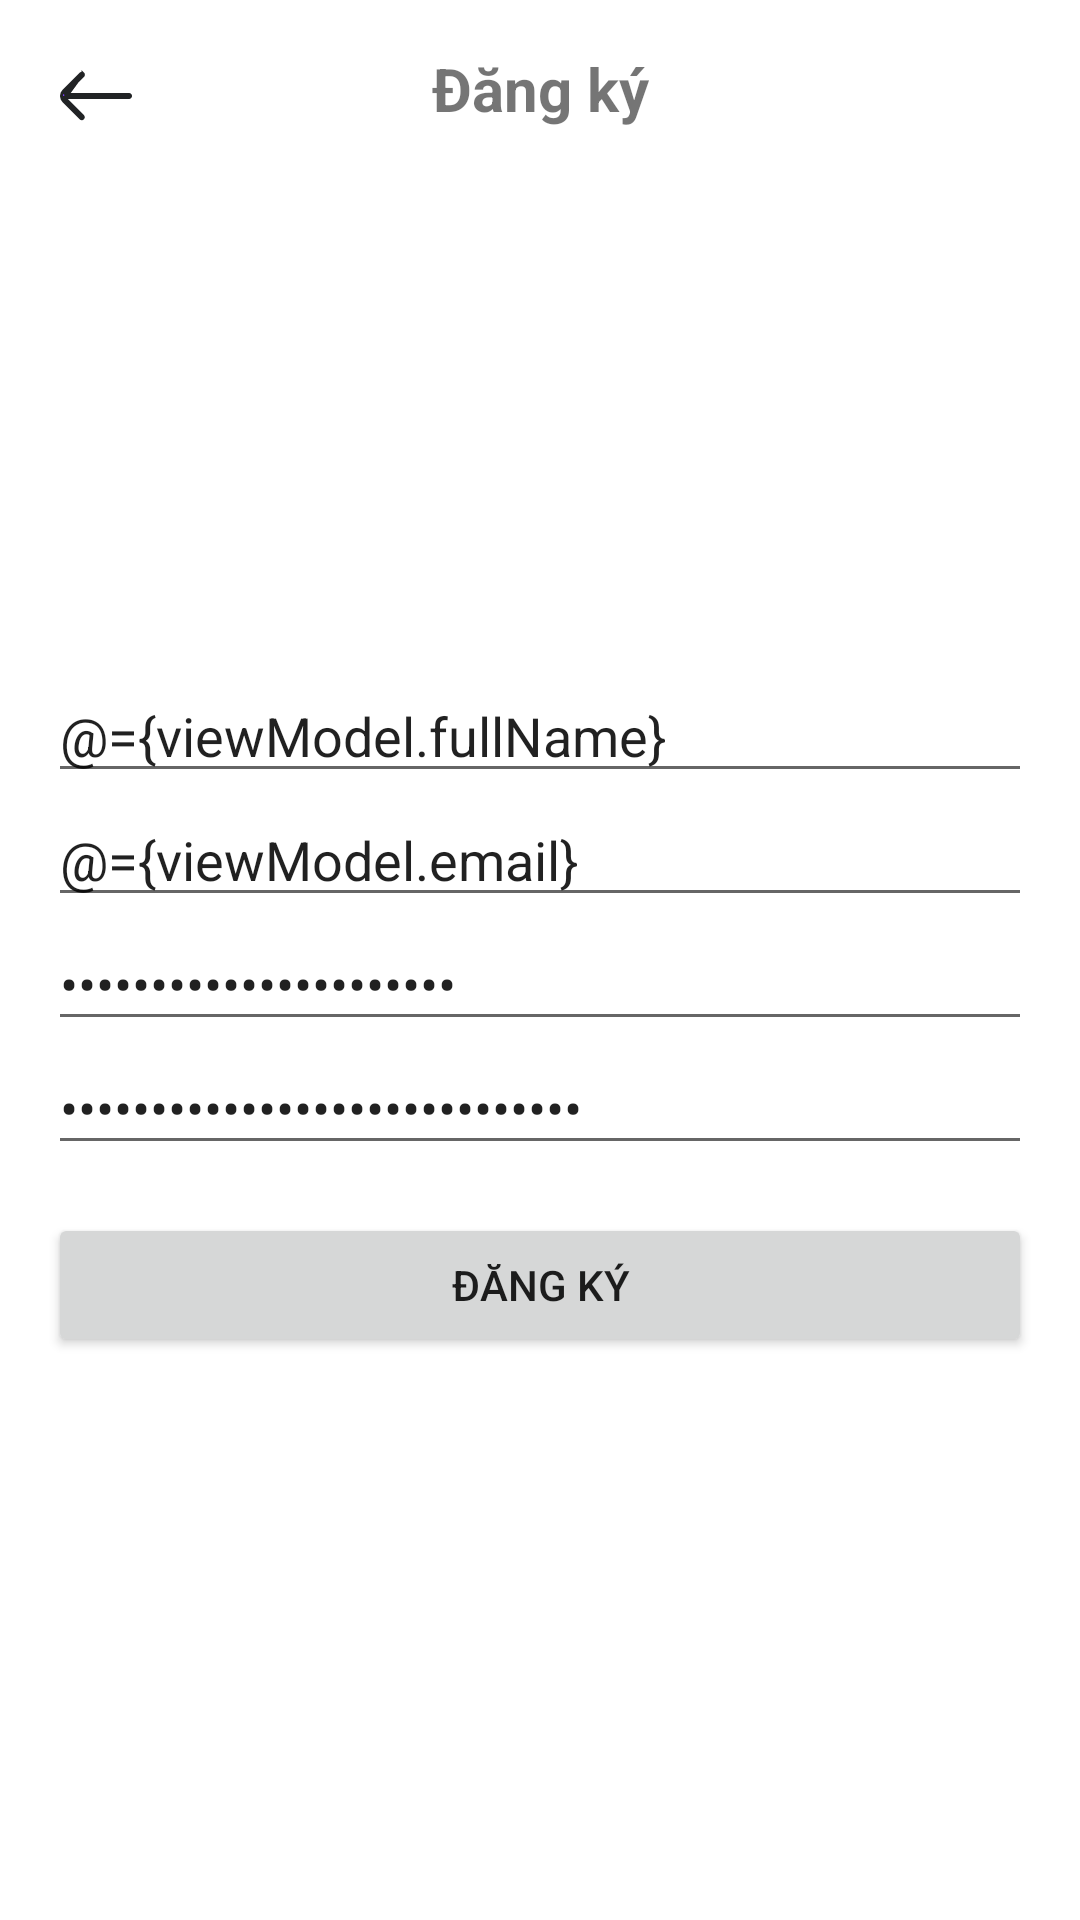

Screen size 1080×1920. Icon name, then its box in pixels as (x1, y1, x2, y2):
back: (60, 70, 132, 121)
